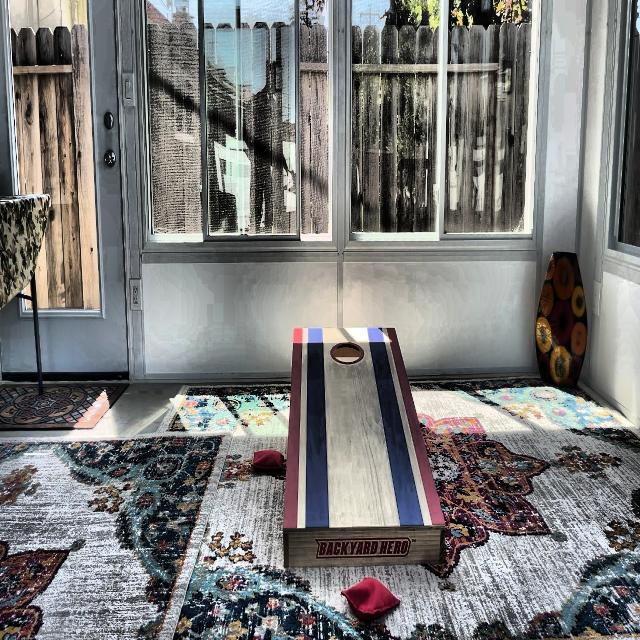board: (292, 328, 409, 530)
hole: (330, 341, 364, 365)
red-bean-bag: (341, 576, 400, 622), (251, 449, 284, 473)
